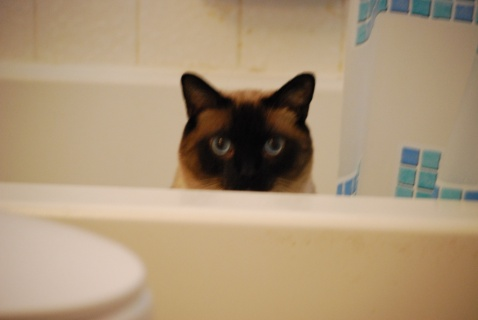Cat: (168, 70, 315, 191)
